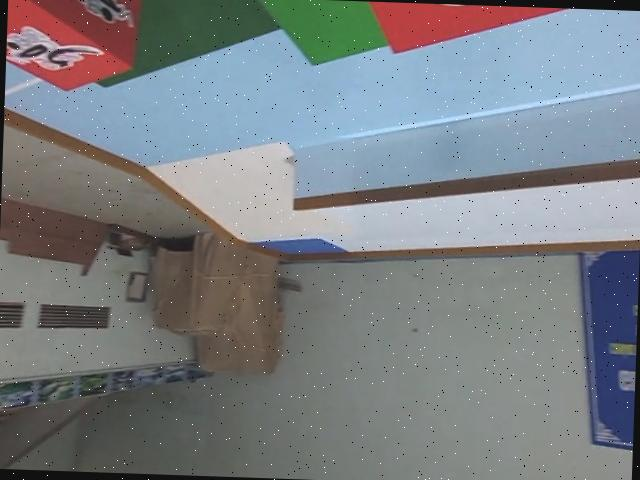R1: (5, 0, 140, 96)
